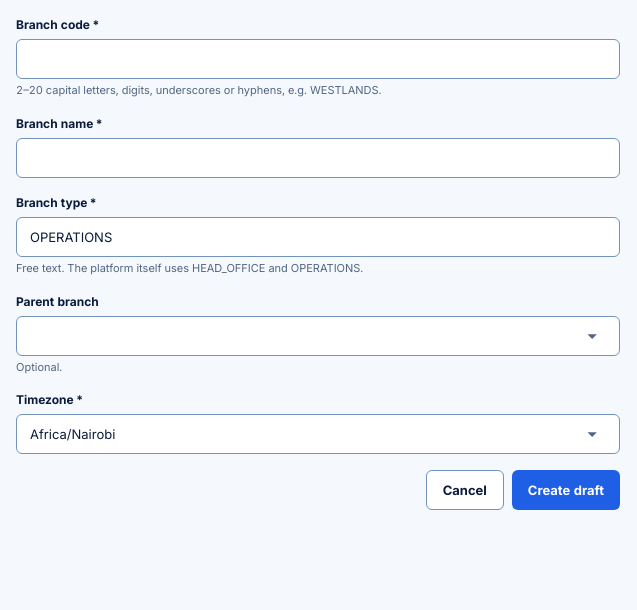
Test: BranchDraftForm › never duplicates the summary for a server-side field failure (V2)
This screenshot has width=637, height=610.
Type "NAIROBI_CBD" into the field labelled "Branch code".
click(318, 59); type("NAIROBI_CBD")  # box [16,39,620,79]
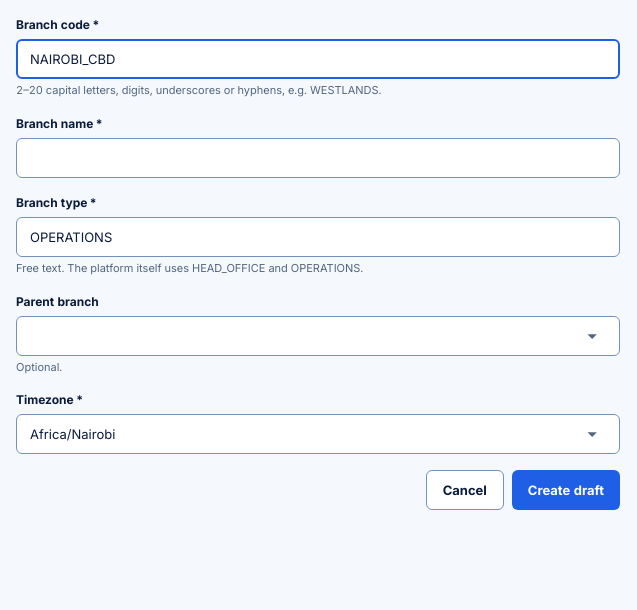
Type "Nairobi CBD Branch" into the field labelled "Branch name".
click(318, 158); type("Nairobi CBD Branch")  # box [16,138,620,178]
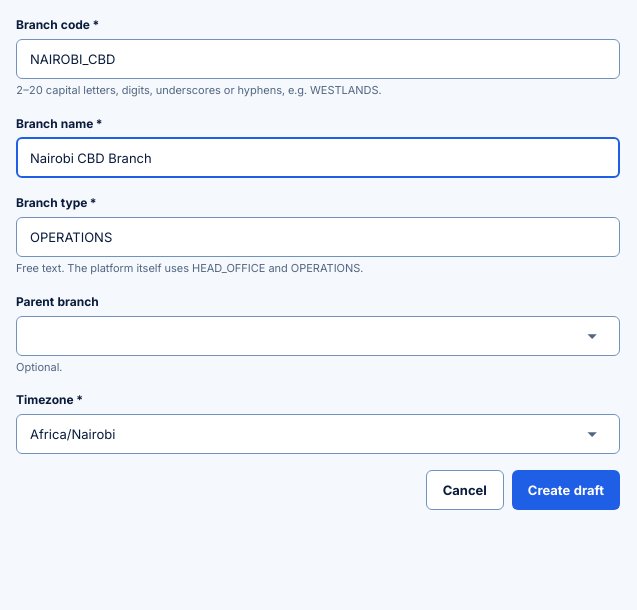
Click the button "Create draft".
click(566, 490)  # box [512,470,620,510]
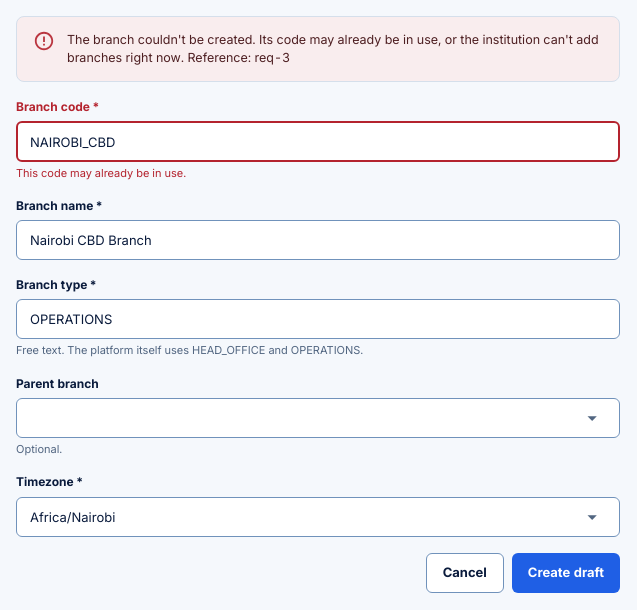
Expected: the text "This code may already be in use." is shown, [16,166,186,180]
Expected: the message shows "req-3", [184,50,290,65]
